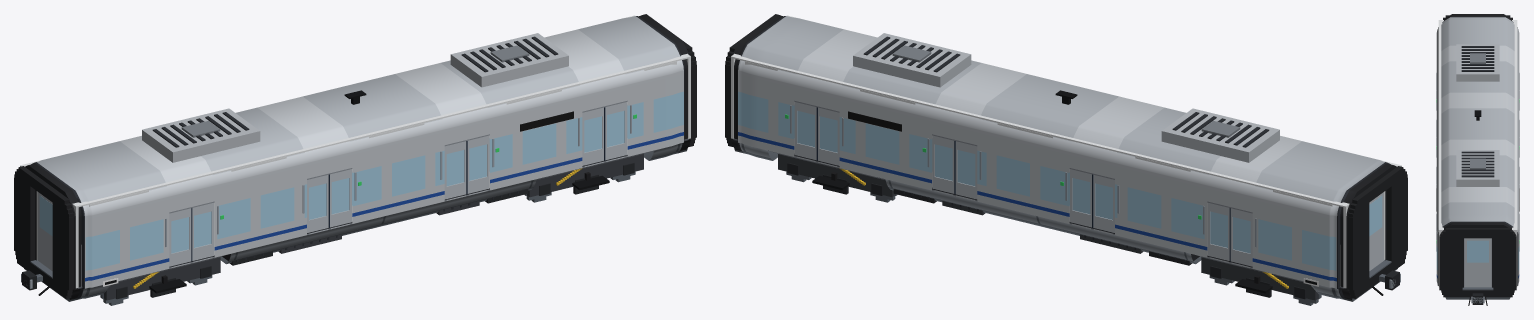
The model's file is r211_car.obj.
3 views of the same model, side by side, from view 1: azimuth 30°, elevation 25°; view 2: azimuth 150°, elevation 25°; view 3: azimuth 270°, elevation 25° (orthographic). The views are drawn at different scales.
Visible parts, largest first — view 1: SHELL, SHELL_roof, SHELL_diaphragm, SHELL_ceiling, BOGEY_REAR, BOGEY_FRONT, FRAME, EXTERNAL_DOOR_16_CG_DR3_TOGGLE_TL_-0.61_X, EXTERNAL_DOOR_22_CG_DR4_TOGGLE_TL_-0.61_X, EXTERNAL_DOOR_4_CG_DR1_TOGGLE_TL_-0.61_X, EXTERNAL_DOOR_5_CG_DR1_TOGGLE_TL_0.61_X, EXTERNAL_DOOR_23_CG_DR4_TOGGLE_TL_0.61_X (+7 smaller); view 2: SHELL, SHELL_roof, SHELL_diaphragm, SHELL_ceiling, BOGEY_REAR, BOGEY_FRONT, FRAME, EXTERNAL_DOOR_19_CG_DL3_TOGGLE_TL_-0.61_X, EXTERNAL_DOOR_25_CG_DL4_TOGGLE_TL_-0.61_X, EXTERNAL_DOOR_7_CG_DL1_TOGGLE_TL_-0.61_X, EXTERNAL_DOOR_8_CG_DL1_TOGGLE_TL_0.61_X, EXTERNAL_DOOR_26_CG_DL4_TOGGLE_TL_0.61_X (+7 smaller); view 3: SHELL, SHELL_diaphragm, SHELL_roof, SHELL_ceiling, CONNECTING_DOOR_2_CG_CF_TOGGLE_TL_0.98_Z, SHELL_end, SHELL_handle, FRAME, SHELL_floor, SHELL_gangway.
Part boxes in pixels (x1=…): SHELL: x1=24, y1=14, x2=691, y2=301; SHELL_roof: x1=142, y1=33, x2=568, y2=162; SHELL_diaphragm: x1=14, y1=14, x2=696, y2=298; SHELL_ceiling: x1=22, y1=16, x2=688, y2=207; BOGEY_REAR: x1=103, y1=257, x2=220, y2=300; BOGEY_FRONT: x1=526, y1=153, x2=643, y2=197; FRAME: x1=21, y1=150, x2=653, y2=295; EXTERNAL_DOOR_16_CG_DR3_TOGGLE_TL_-0.61_X: x1=444, y1=141, x2=467, y2=199; EXTERNAL_DOOR_22_CG_DR4_TOGGLE_TL_-0.61_X: x1=582, y1=107, x2=605, y2=165; EXTERNAL_DOOR_4_CG_DR1_TOGGLE_TL_-0.61_X: x1=169, y1=208, x2=192, y2=266; EXTERNAL_DOOR_5_CG_DR1_TOGGLE_TL_0.61_X: x1=192, y1=203, x2=214, y2=260; EXTERNAL_DOOR_23_CG_DR4_TOGGLE_TL_0.61_X: x1=605, y1=102, x2=627, y2=160; SHELL: x1=730, y1=14, x2=1397, y2=301; SHELL_roof: x1=853, y1=33, x2=1279, y2=162; SHELL_diaphragm: x1=725, y1=14, x2=1407, y2=298; SHELL_ceiling: x1=733, y1=16, x2=1399, y2=206; BOGEY_REAR: x1=1201, y1=257, x2=1318, y2=300; BOGEY_FRONT: x1=778, y1=153, x2=895, y2=197; FRAME: x1=768, y1=150, x2=1400, y2=295; EXTERNAL_DOOR_19_CG_DL3_TOGGLE_TL_-0.61_X: x1=954, y1=141, x2=977, y2=199; EXTERNAL_DOOR_25_CG_DL4_TOGGLE_TL_-0.61_X: x1=816, y1=107, x2=839, y2=165; EXTERNAL_DOOR_7_CG_DL1_TOGGLE_TL_-0.61_X: x1=1229, y1=208, x2=1252, y2=266; EXTERNAL_DOOR_8_CG_DL1_TOGGLE_TL_0.61_X: x1=1207, y1=203, x2=1229, y2=260; EXTERNAL_DOOR_26_CG_DL4_TOGGLE_TL_0.61_X: x1=794, y1=102, x2=816, y2=160; SHELL: x1=1436, y1=14, x2=1519, y2=299; SHELL_diaphragm: x1=1439, y1=15, x2=1516, y2=297; SHELL_roof: x1=1456, y1=44, x2=1499, y2=186; SHELL_ceiling: x1=1438, y1=20, x2=1517, y2=228; CONNECTING_DOOR_2_CG_CF_TOGGLE_TL_0.98_Z: x1=1464, y1=238, x2=1491, y2=287; SHELL_end: x1=1438, y1=20, x2=1517, y2=286; SHELL_handle: x1=1436, y1=73, x2=1519, y2=251; FRAME: x1=1468, y1=293, x2=1487, y2=305; SHELL_floor: x1=1464, y1=238, x2=1491, y2=285; SHELL_gangway: x1=1462, y1=286, x2=1493, y2=289.
Size of the model in its own units: 19.64 by 4.01 by 3.08.
Materials: 1 (1 with a texture image).
